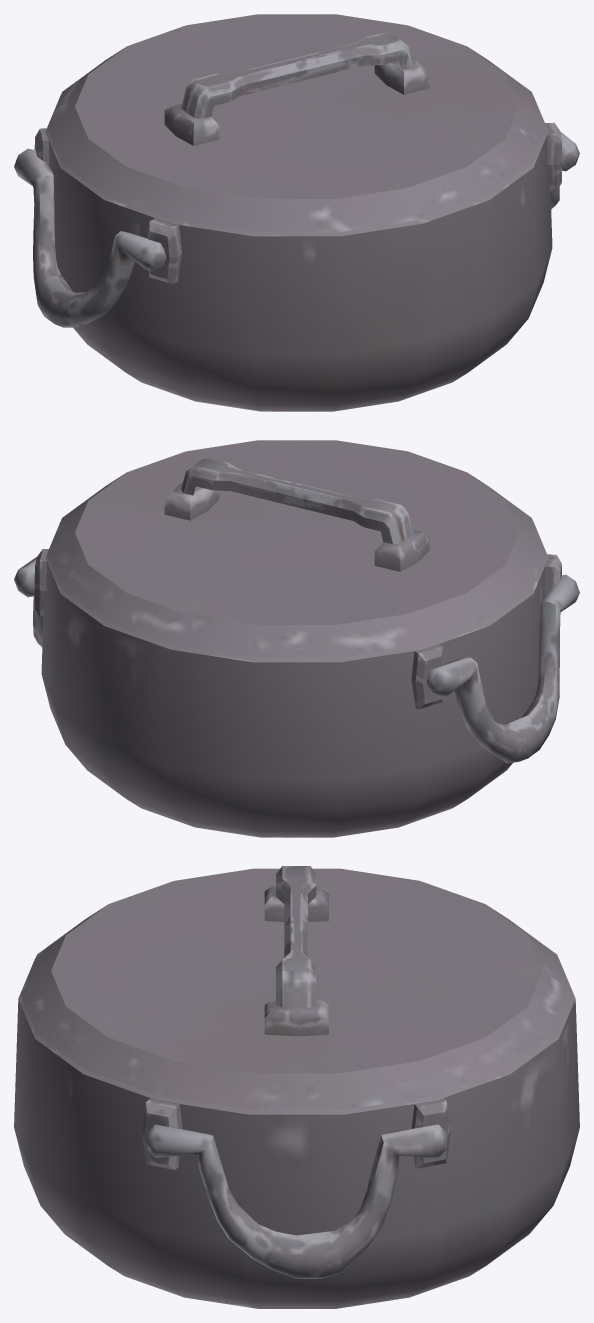
Rendered from pot_1_lid.glb.
3 views of the same model, one above another, from view 1: azimuth 30°, elevation 25°; view 2: azimuth 150°, elevation 25°; view 3: azimuth 270°, elevation 25° (orthographic). The views are drawn at different scales.
Parts seen in each view (by area): view 1: Pot_1_Lid; view 2: Pot_1_Lid; view 3: Pot_1_Lid.
Part boxes in pixels (x1,y1,x2,y2): Pot_1_Lid: [14, 14, 579, 411]; Pot_1_Lid: [14, 440, 579, 837]; Pot_1_Lid: [14, 866, 579, 1308].
Size of the model in its own units: 0.5393 by 0.2805 by 0.4861.
1 material, 1 textured.
